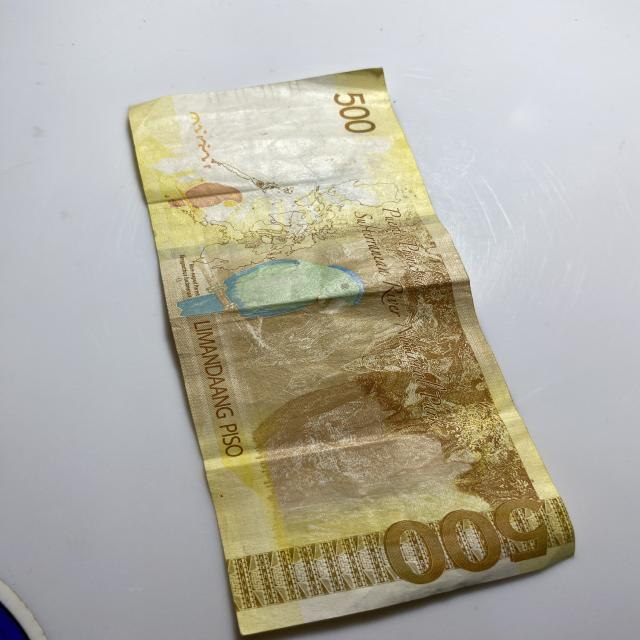500_big_parrot: (180, 260, 367, 324)
500_parrot_watermark: (170, 181, 240, 214)
value_watermark: (227, 102, 272, 122)
